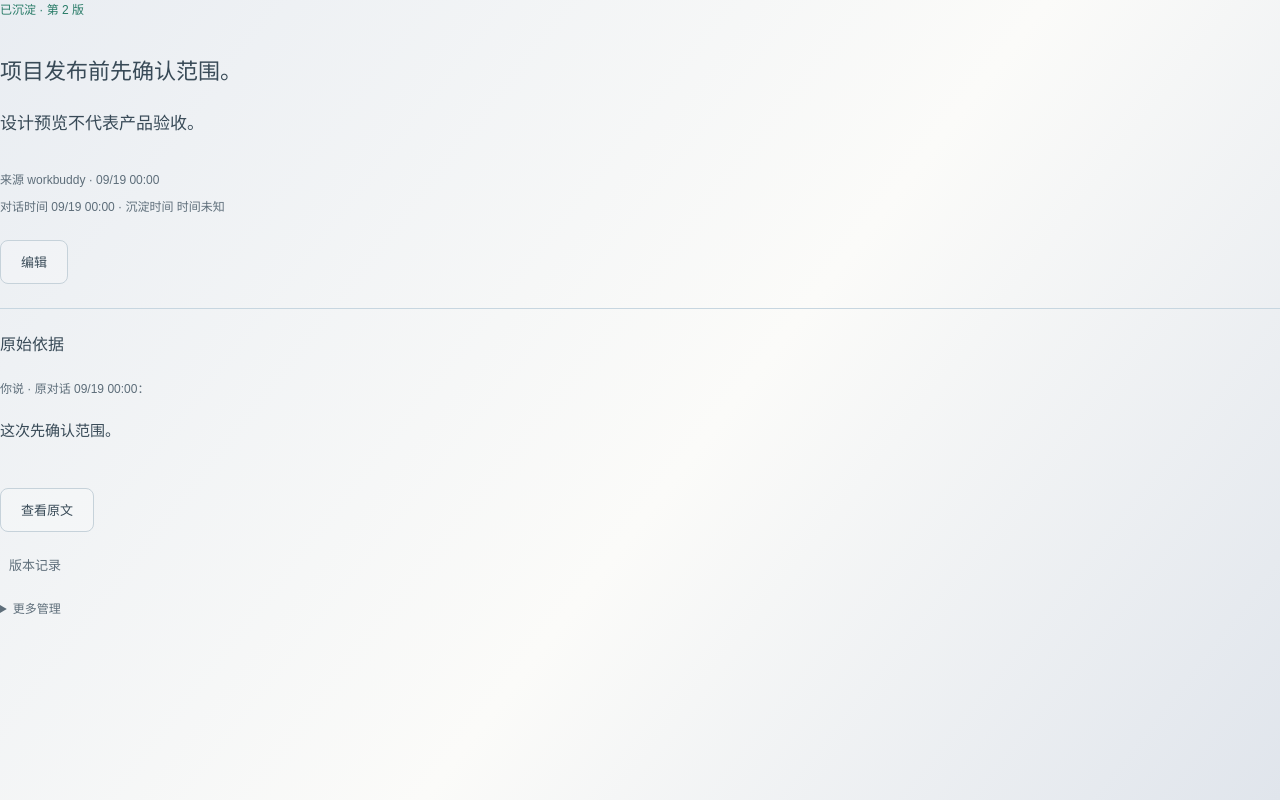
it: retains dirty draft when escape confirmation is declined and only discards after acceptance
This screenshot has width=1280, height=800.
Click the button "编辑" at (34, 262), box [0, 240, 68, 284]
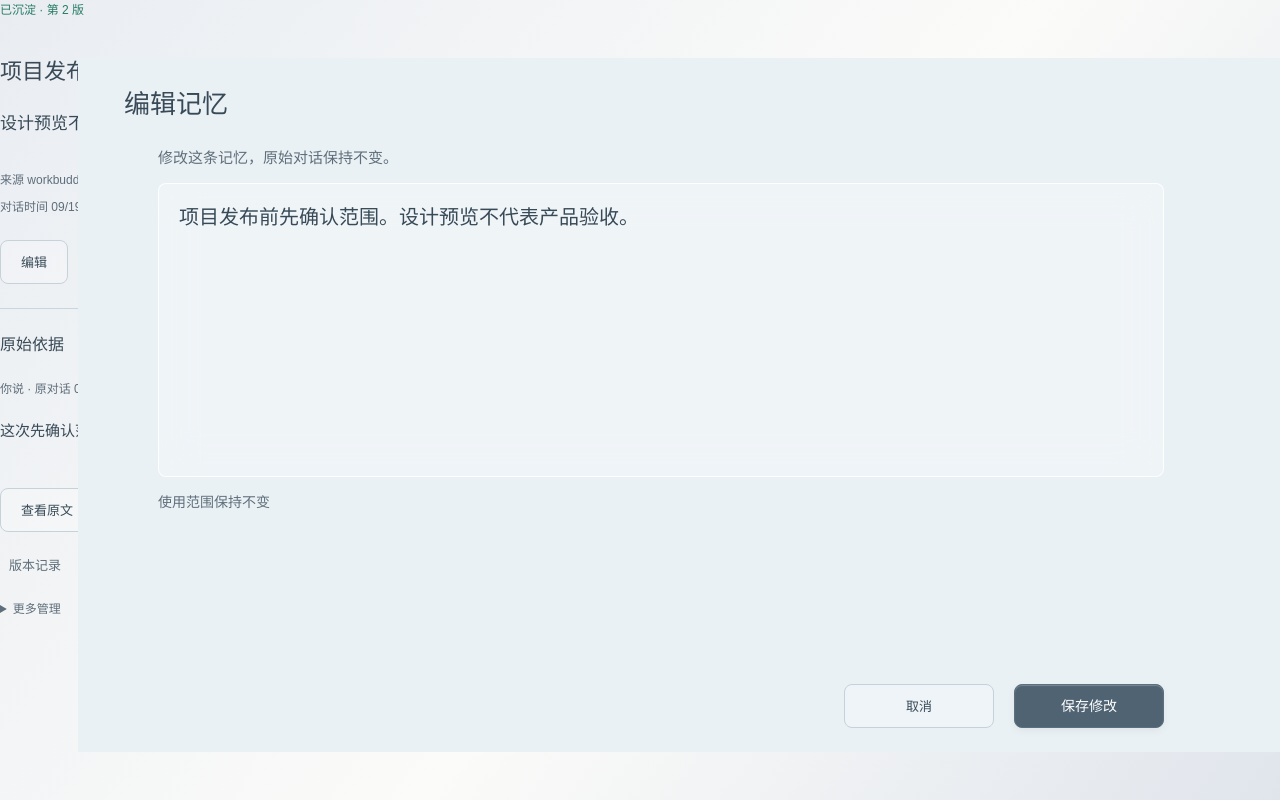
Replace the text in the text box named "记忆内容" with "尚未保存的草稿" at (661, 330), box [158, 183, 1164, 477]
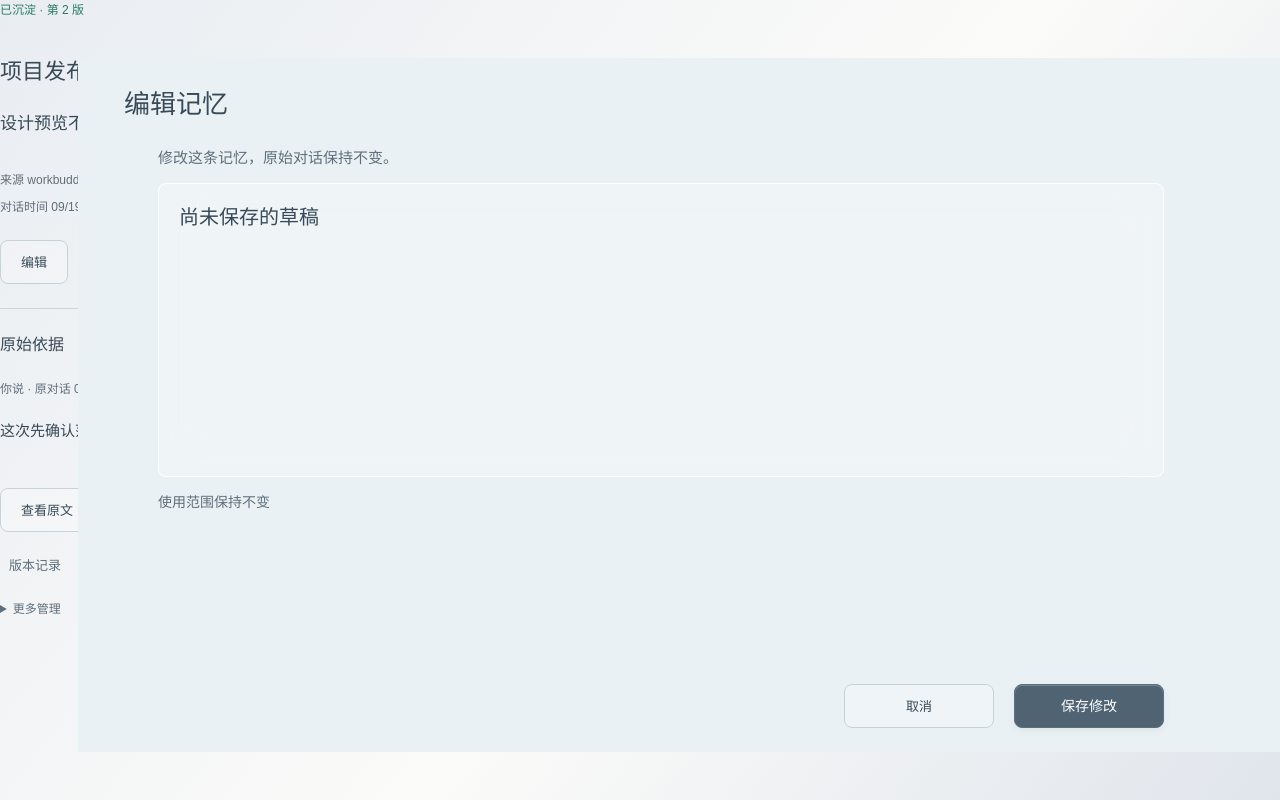
Press Escape in the text box named "记忆内容", box [158, 183, 1164, 477]
Check: the text "这次先确认范围。" is shown, box [0, 422, 120, 439]
Press Escape in the text box named "记忆内容", box [158, 183, 1164, 477]
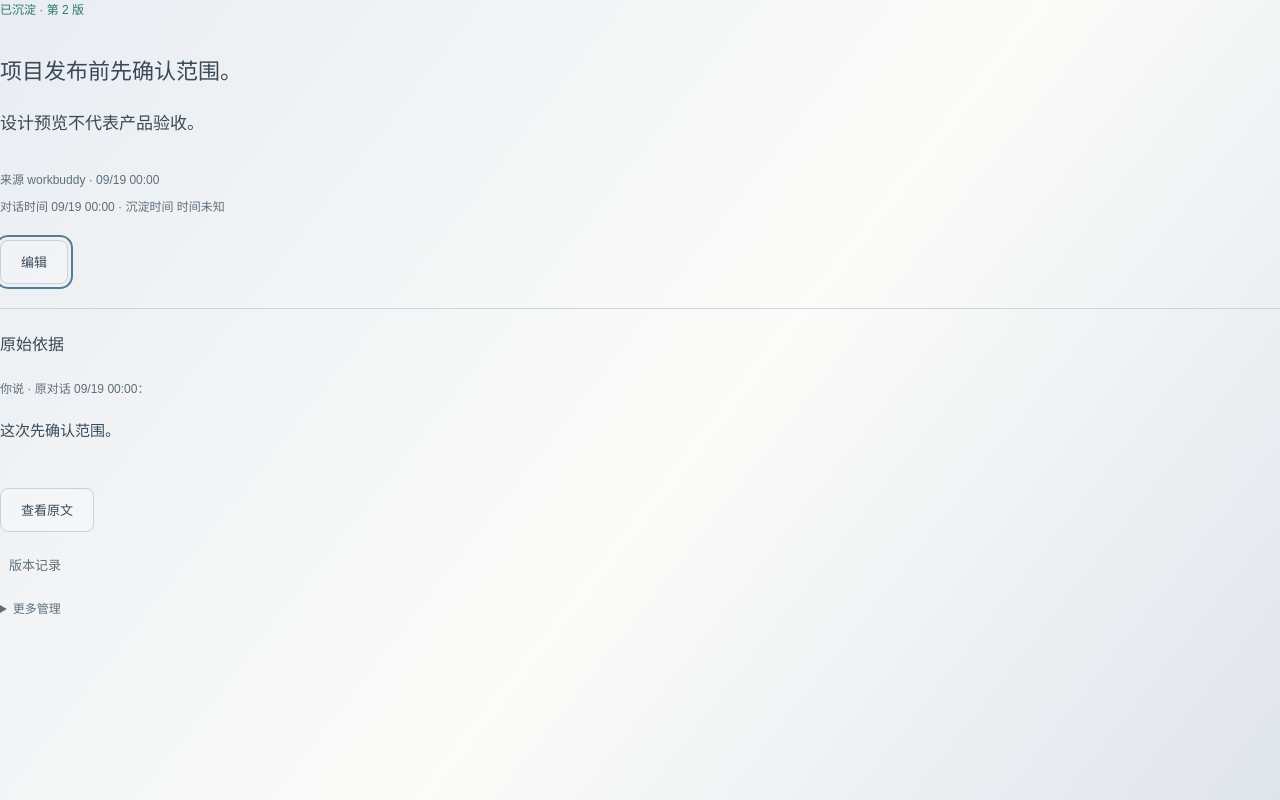
Check: the text box labelled "记忆内容" is gone
